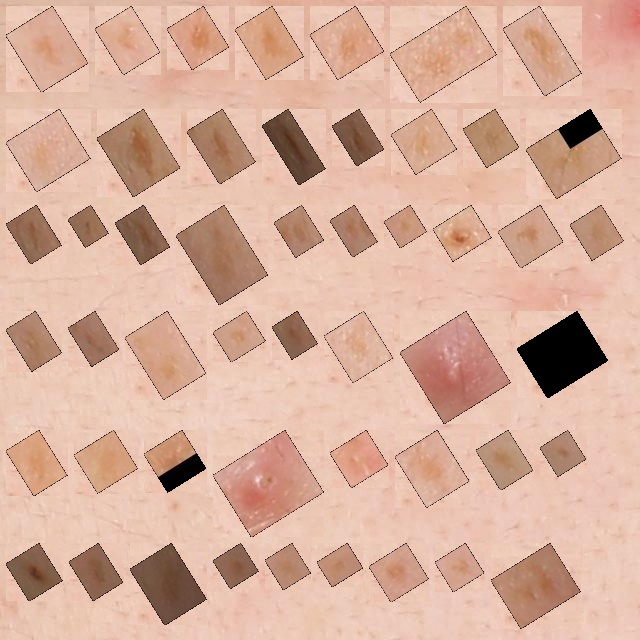melasma: (401, 17, 486, 91), (187, 216, 257, 294), (537, 120, 610, 187), (528, 322, 597, 387), (502, 554, 570, 617), (108, 120, 169, 186), (136, 322, 195, 388), (17, 17, 77, 81), (514, 17, 570, 85), (17, 120, 79, 181), (141, 554, 196, 614), (406, 441, 458, 496), (321, 17, 373, 69), (198, 120, 244, 173), (246, 17, 293, 68), (335, 322, 382, 372), (273, 120, 314, 174), (106, 17, 149, 64), (402, 120, 446, 163), (509, 216, 552, 257), (85, 441, 127, 482), (17, 441, 56, 485), (178, 17, 218, 58), (155, 441, 195, 481), (380, 554, 418, 591), (487, 441, 522, 479), (17, 322, 51, 360), (126, 216, 159, 254), (474, 120, 508, 156), (444, 216, 480, 250), (17, 216, 50, 253), (80, 554, 112, 590), (581, 216, 613, 249), (343, 120, 373, 155), (79, 322, 108, 355), (224, 322, 254, 351), (285, 216, 313, 246), (341, 216, 366, 246), (446, 554, 473, 581), (283, 322, 307, 348), (276, 554, 300, 579), (551, 441, 575, 465), (224, 554, 247, 577), (328, 554, 352, 576), (395, 216, 416, 237), (79, 216, 97, 236)
nevus: (17, 554, 51, 590)
pustule: (411, 322, 500, 413), (224, 441, 313, 526), (341, 441, 377, 477)
